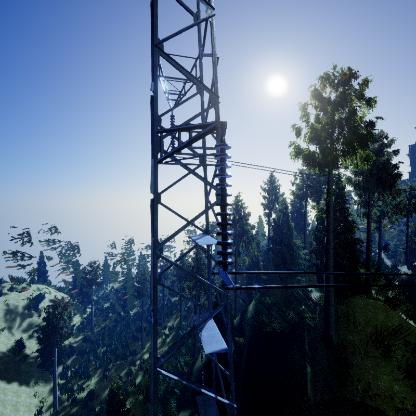insulator: (212, 137, 238, 267)
